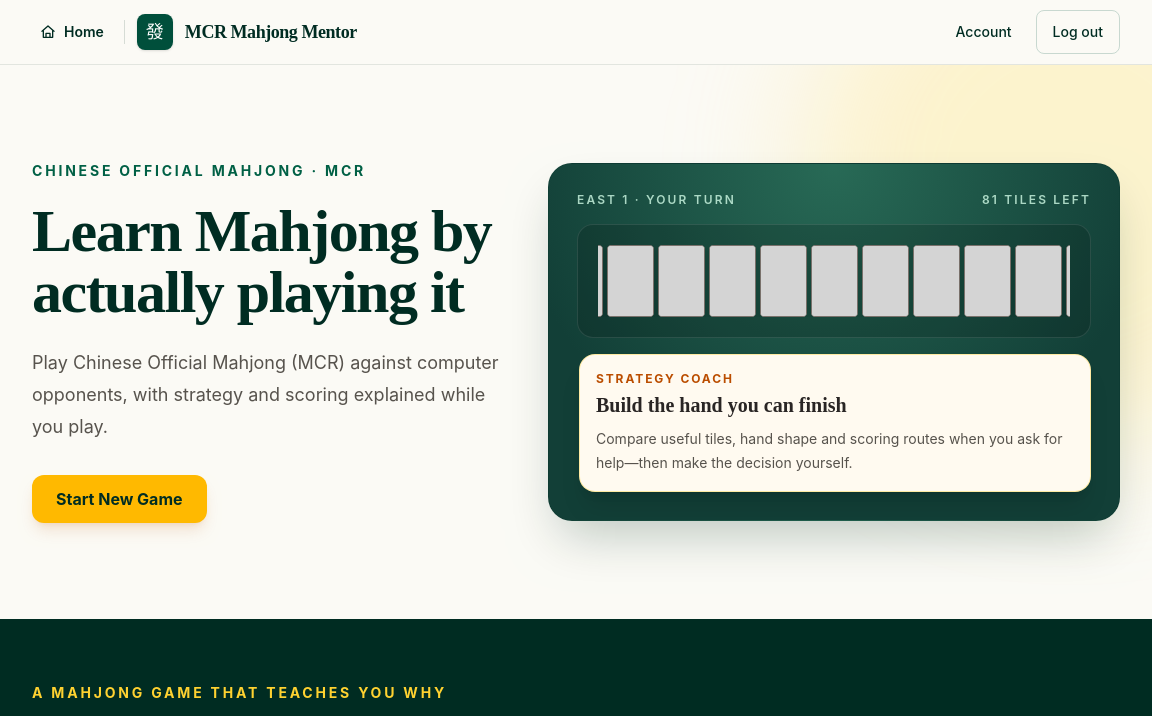
it: LandingPage state-aware actions › re-evaluates guest persistence after logout
Click the button "Log out" at (1078, 32), box [1036,10,1120,54]
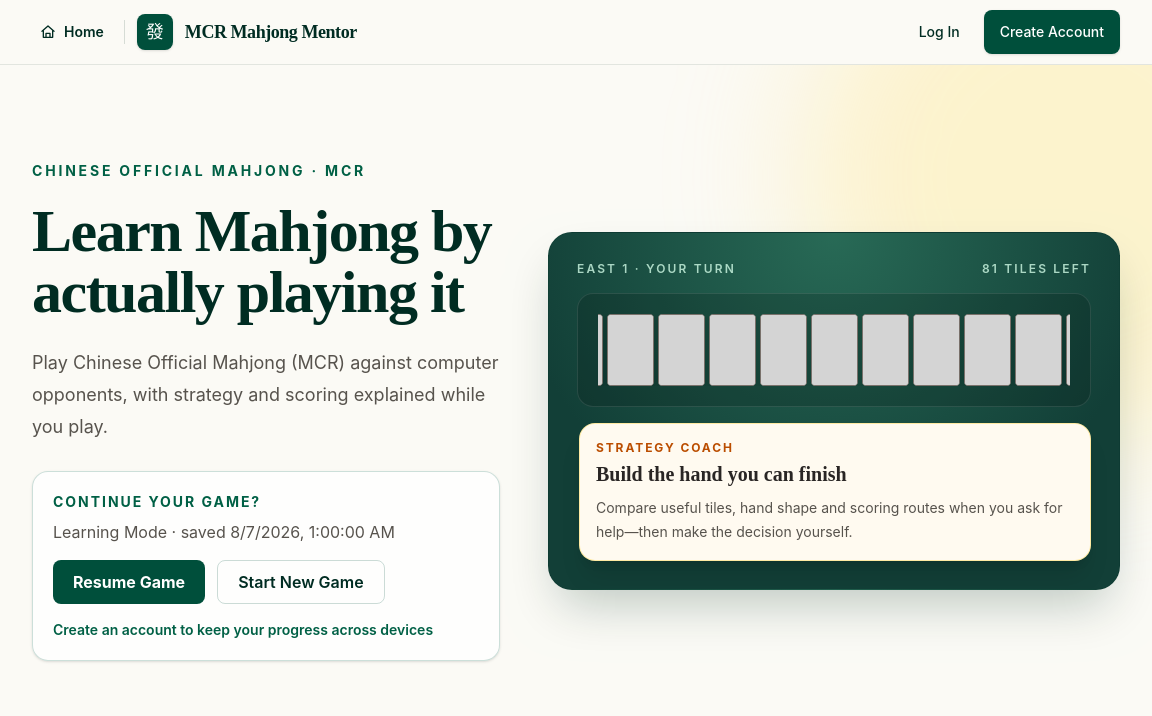
Expected: the link "Resume Game" is shown, [53,560,205,604]
